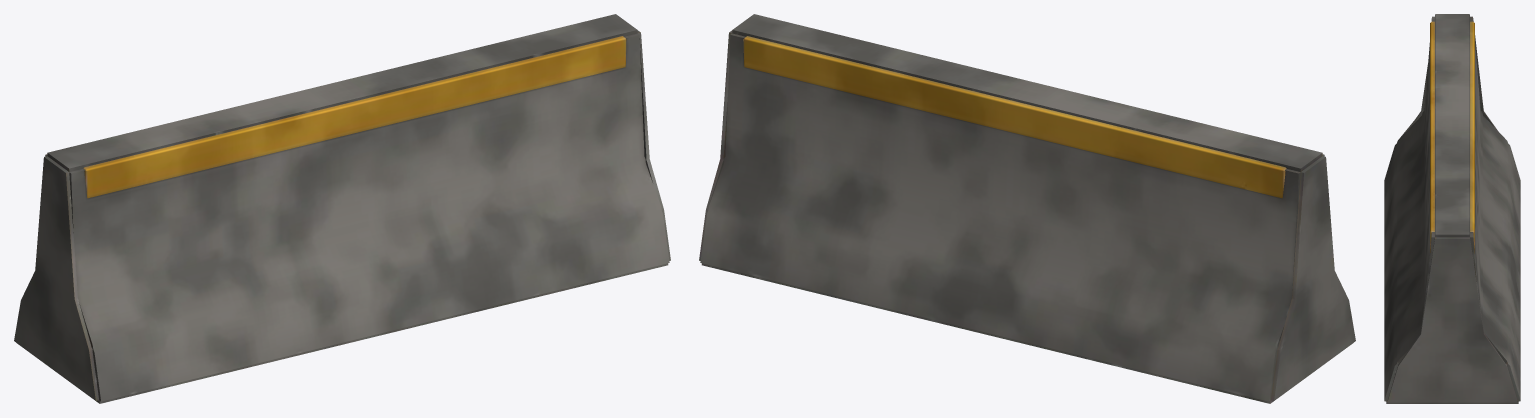
File: jersey_concrete.glb
3 views of the same model, side by side, from view 1: azimuth 30°, elevation 25°; view 2: azimuth 150°, elevation 25°; view 3: azimuth 270°, elevation 25° (orthographic). The views are drawn at different scales.
Parts seen in each view (by area): view 1: JerseyConcrete; view 2: JerseyConcrete; view 3: JerseyConcrete.
Part boxes in pixels (x1,y1,x2,y2): JerseyConcrete: [14, 14, 670, 403]; JerseyConcrete: [699, 14, 1355, 403]; JerseyConcrete: [1384, 14, 1520, 403].
Size of the model in its own units: 2.6 by 0.9199 by 0.672.
1 material, 1 textured.
